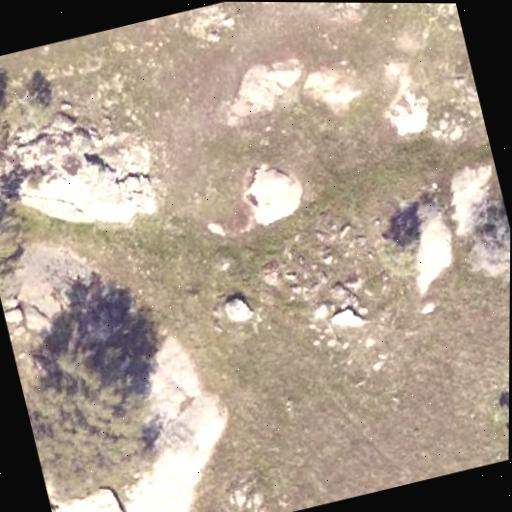tree-top: (14, 330, 175, 512), (0, 59, 41, 210), (457, 194, 511, 295), (360, 215, 422, 286), (489, 381, 509, 460)
